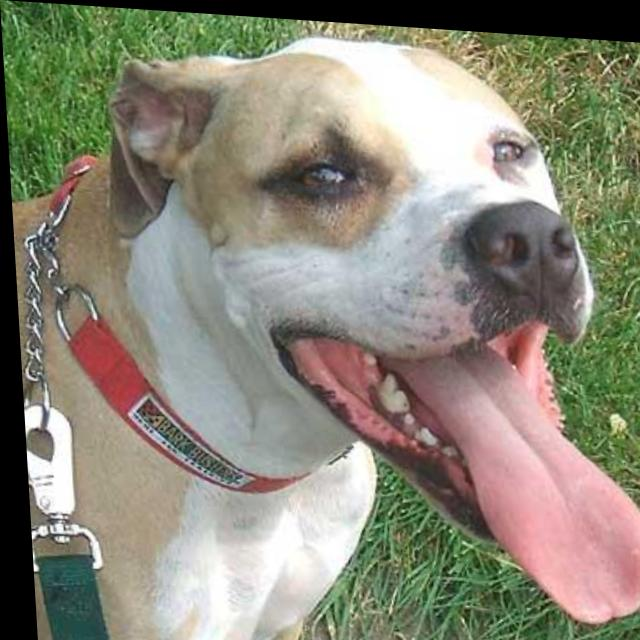amstaff: (2, 13, 640, 640)
